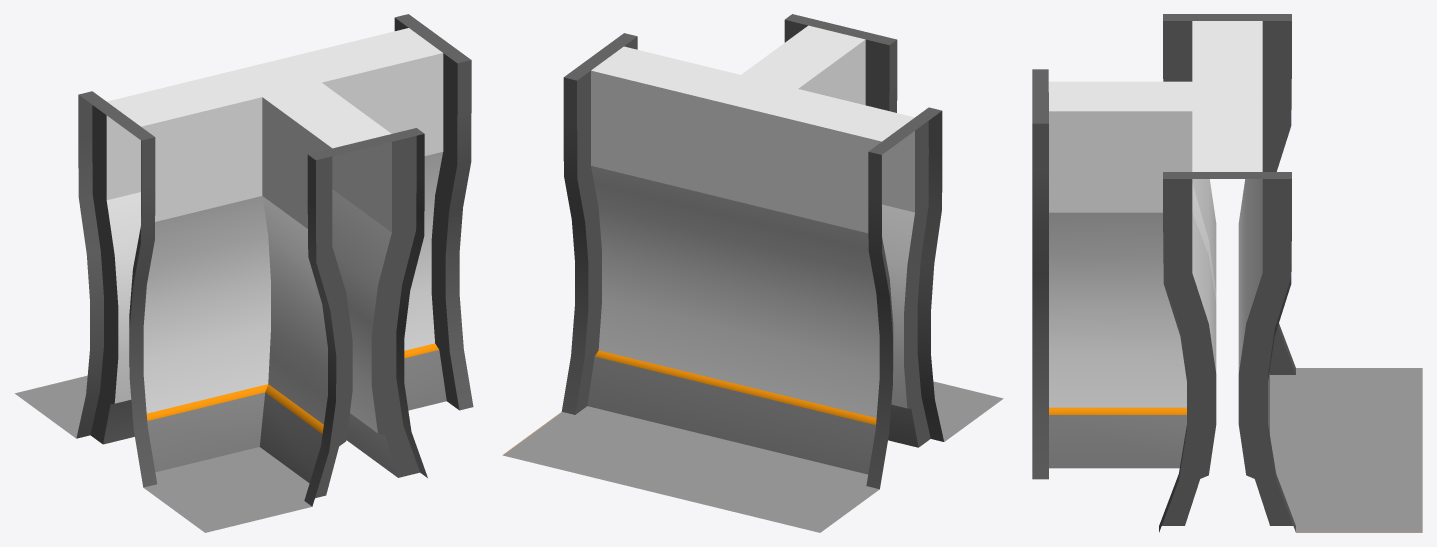
File: SM_InteriorWall_T_03.fbx
3 views of the same model, side by side, from view 1: azimuth 30°, elevation 25°; view 2: azimuth 150°, elevation 25°; view 3: azimuth 270°, elevation 25° (orthographic). The views are drawn at different scales.
Visible parts, largest first — view 1: SM_InteriorWall_T_03; view 2: SM_InteriorWall_T_03; view 3: SM_InteriorWall_T_03.
Part boxes in pixels (left/top/right/bottom): SM_InteriorWall_T_03: left=15, top=14, right=473, bottom=532; SM_InteriorWall_T_03: left=502, top=14, right=1003, bottom=532; SM_InteriorWall_T_03: left=1032, top=14, right=1422, bottom=532.
Size of the model in its own units: 200 by 200 by 200.
1 material, 1 textured.
